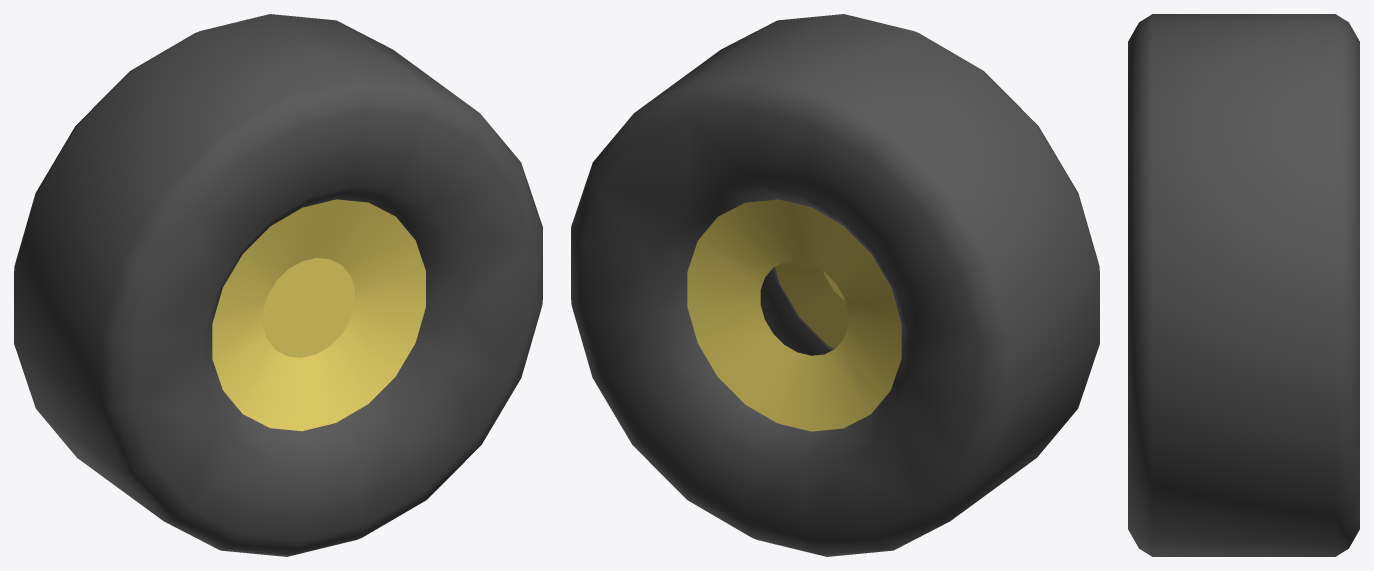
File: wheel.dae
3 renders of one model, left to right at view 1: azimuth 30°, elevation 25°; view 2: azimuth 150°, elevation 25°; view 3: azimuth 270°, elevation 25°, orthographic. The views are drawn at different scales.
Parts seen in each view (by area): view 1: Plane.003, Plane.004; view 2: Plane.003, Plane.004; view 3: Plane.003.
Boxes of the visible parts, x1,y1,x2,y2 form: Plane.003: (14,14,542,556); Plane.004: (212,199,425,431); Plane.003: (571,14,1099,556); Plane.004: (687,199,901,431); Plane.003: (1128,14,1359,556).
Bounding box in the file's own units: 0.2222 × 0.0959 × 0.2222.
